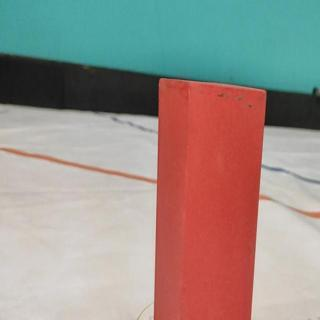redbox: (155, 77, 268, 320)
